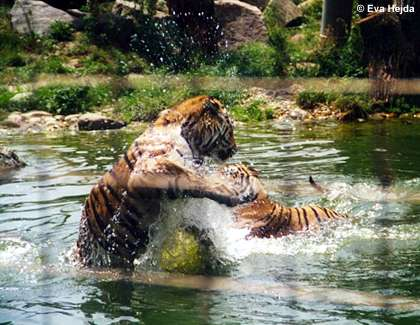Tigre: (83, 94, 252, 297)
